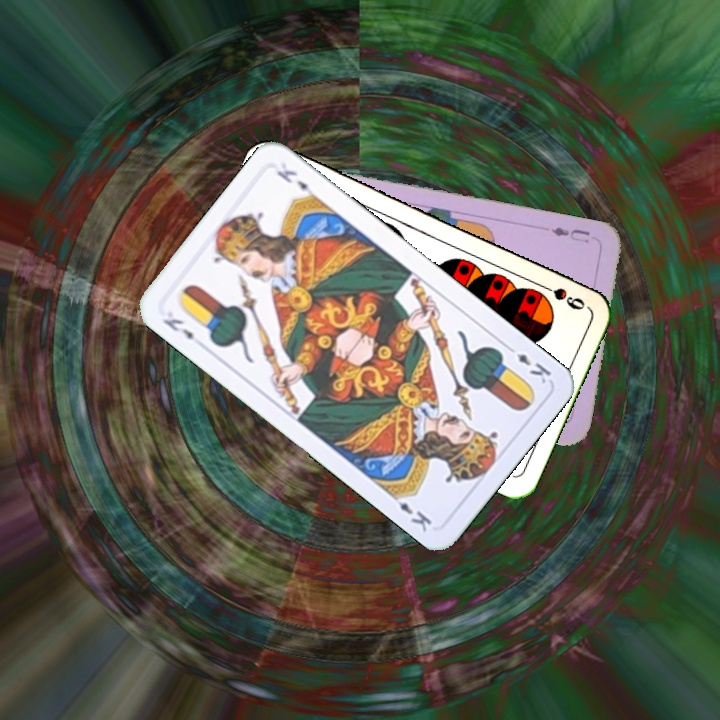EK: (502, 341, 554, 387), (158, 314, 197, 343)
EU: (546, 223, 592, 246)
S9: (533, 278, 588, 313)
